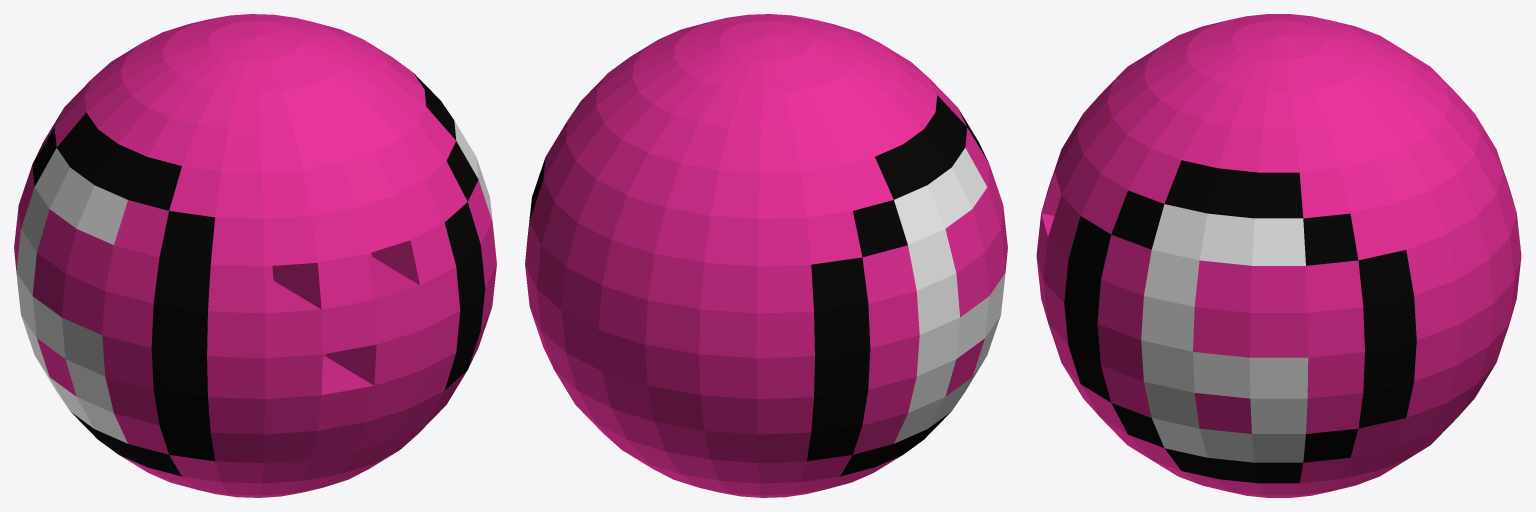
Rendered from Cagel_Ball2.fbx.
3 views of the same model, side by side, from view 1: azimuth 30°, elevation 25°; view 2: azimuth 150°, elevation 25°; view 3: azimuth 270°, elevation 25° (orthographic).
Visible parts, largest first — view 1: Sphere.001; view 2: Sphere.001; view 3: Sphere.001.
Boxes of the visible parts, x1=… form: Sphere.001: x1=14, y1=14, x2=496, y2=497; Sphere.001: x1=525, y1=14, x2=1007, y2=497; Sphere.001: x1=1036, y1=14, x2=1521, y2=497.
Size of the model in its own units: 501 by 505 by 505.
